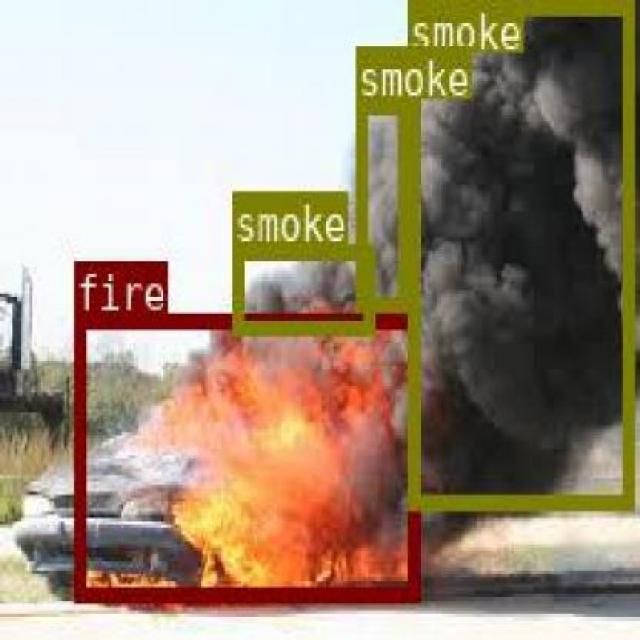Fire: (72, 312, 417, 600)
Smoke: (406, 0, 632, 505), (230, 242, 372, 332), (354, 96, 406, 307)
